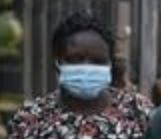with_facemask: (57, 62, 121, 102)
